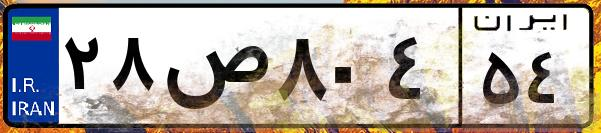0: (330, 28, 385, 110)
2: (57, 26, 110, 100)
4: (385, 28, 445, 110), (525, 38, 570, 115)
5: (475, 38, 525, 113)
8: (270, 28, 330, 110), (110, 28, 158, 98)
ص: (158, 20, 270, 120)
